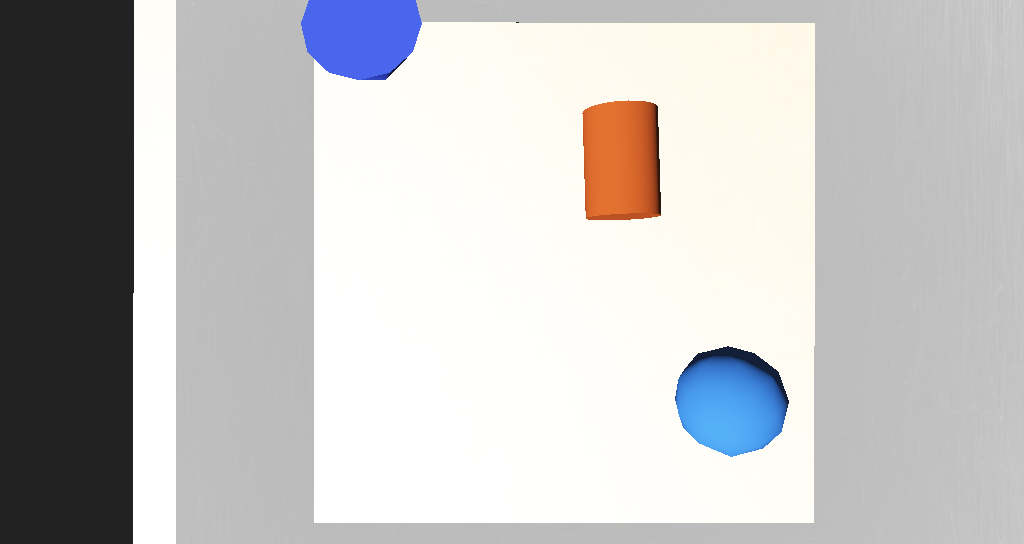cone: (515, 196, 563, 243)
cylinder: (357, 148, 424, 205)
sphere: (566, 296, 633, 344)
